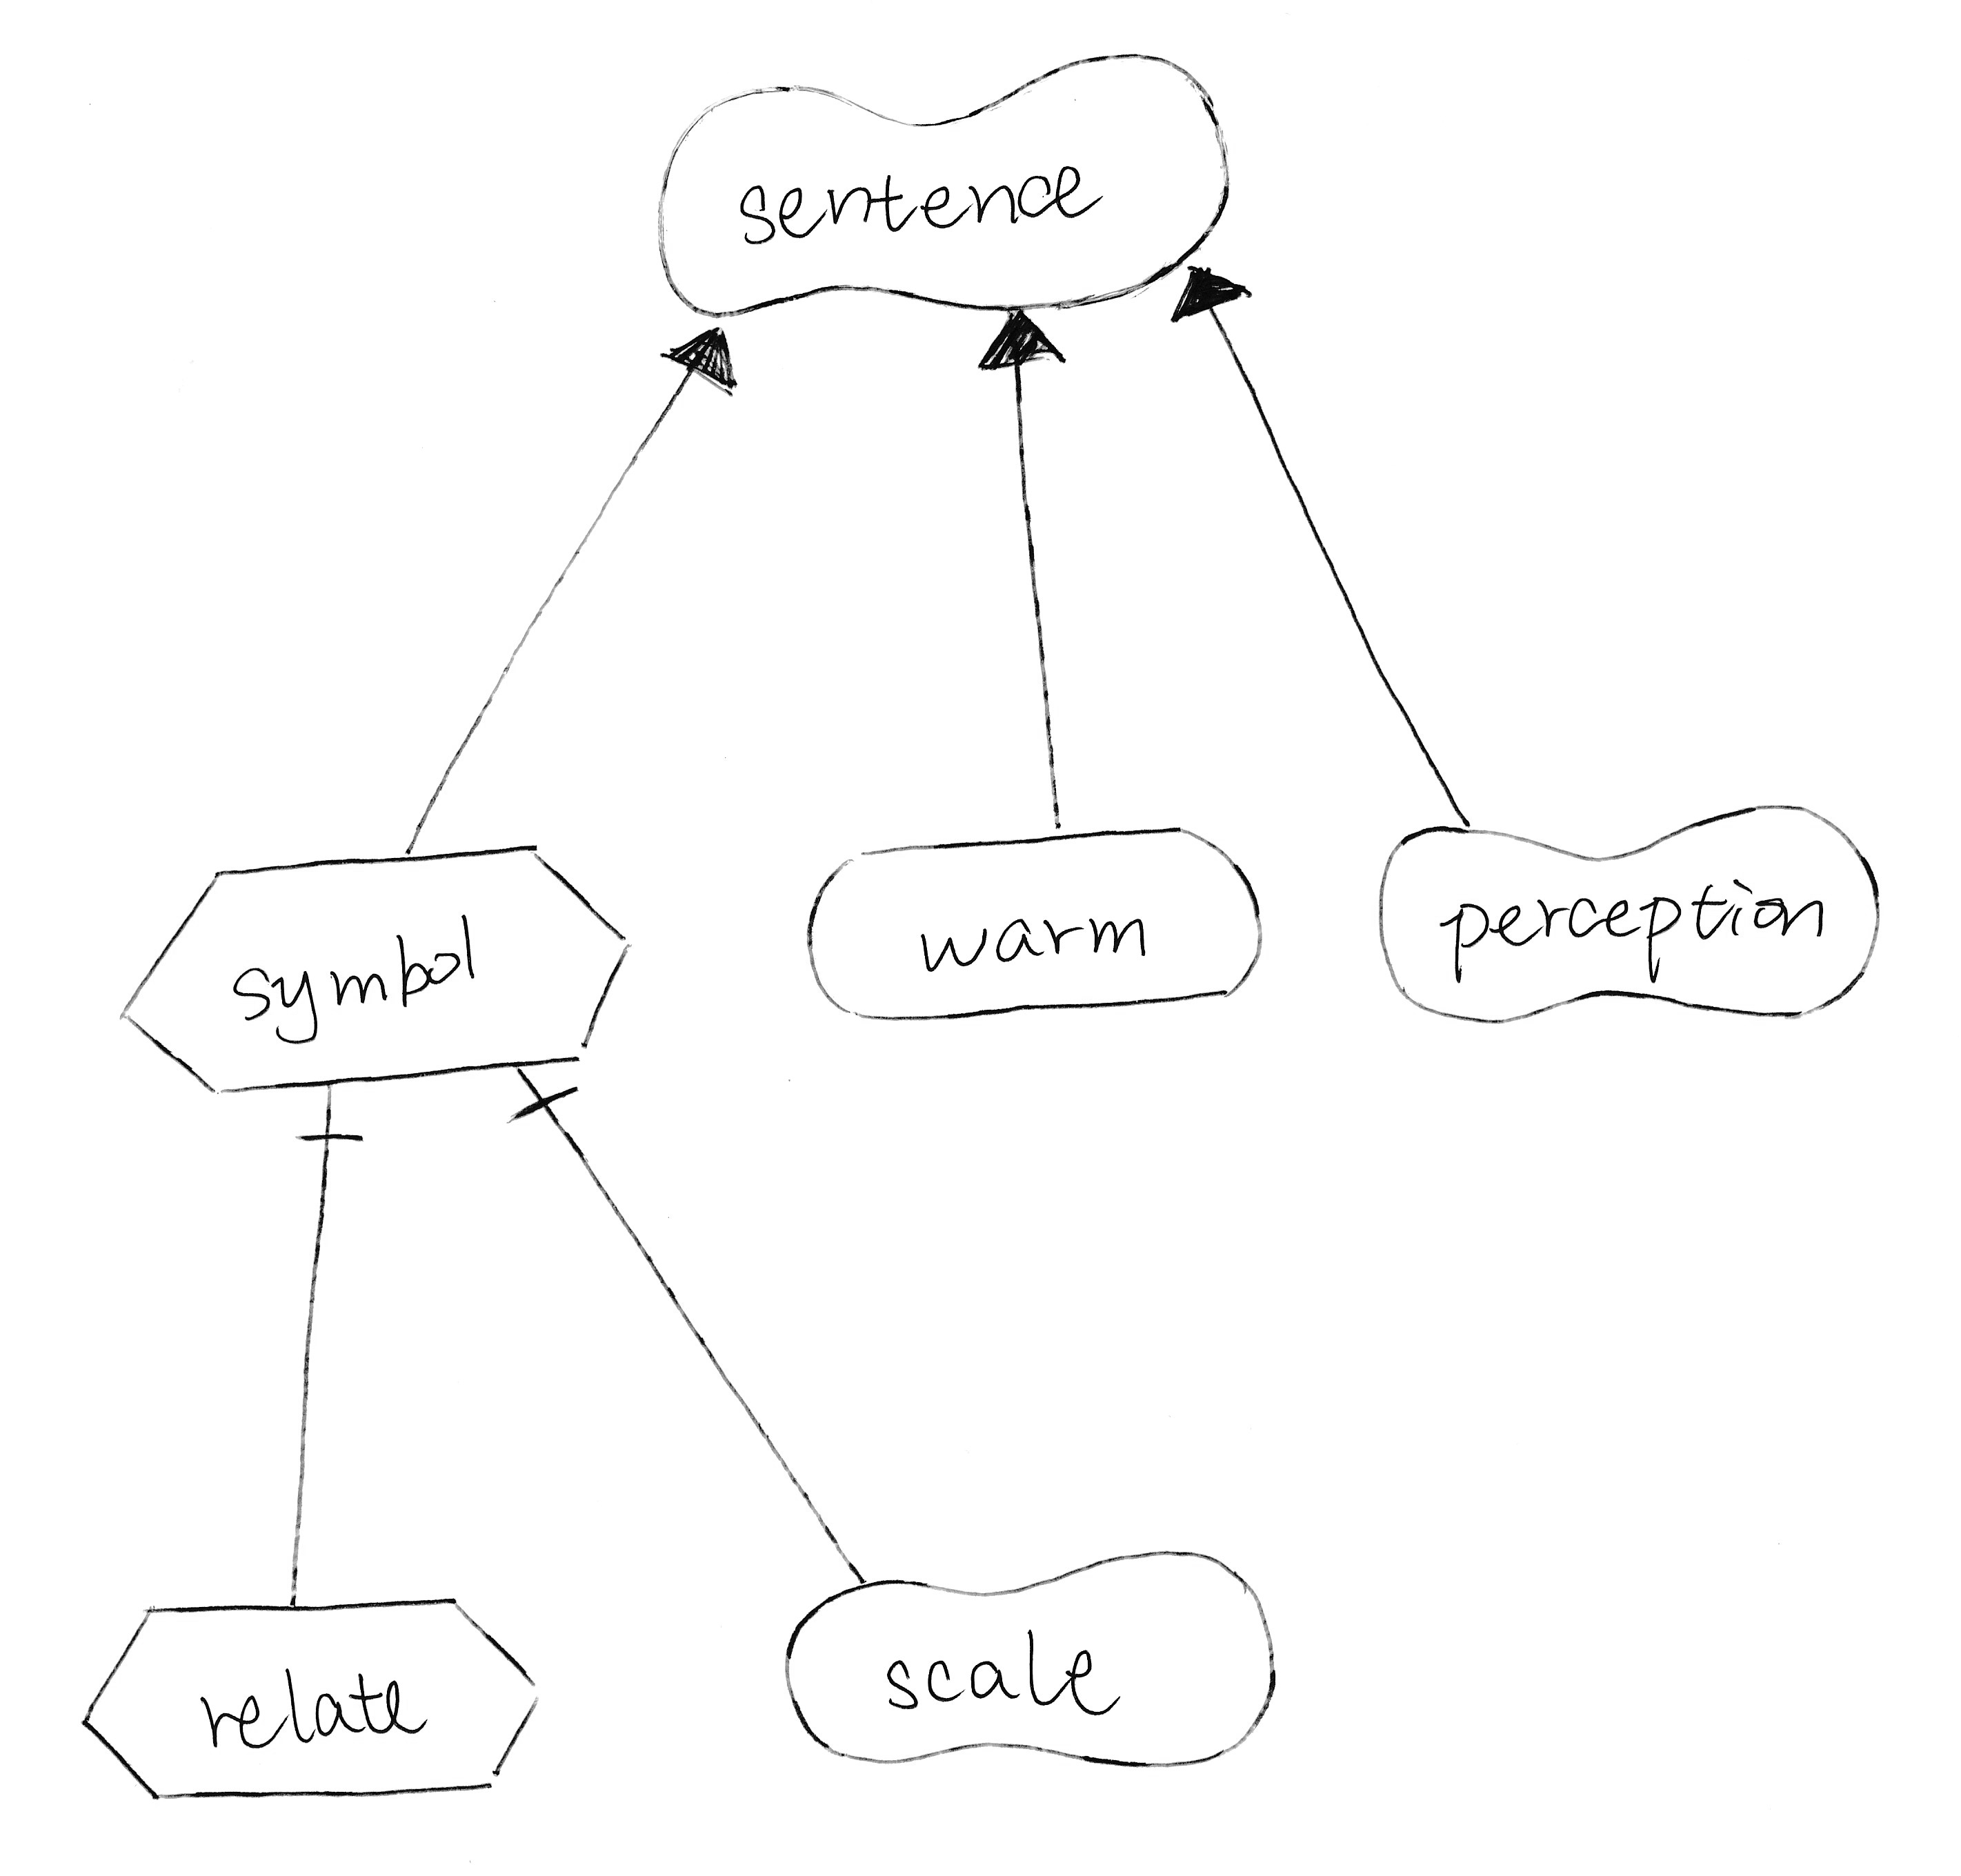and: (278, 1085, 373, 1176), (497, 1066, 601, 1144)
goal: (786, 808, 1285, 1040)
or: (648, 313, 748, 417), (963, 304, 1084, 385), (1157, 256, 1268, 341)
quality: (639, 26, 1250, 340), (1350, 782, 1896, 1036), (765, 1528, 1294, 1783)
task: (102, 824, 643, 1111), (65, 1575, 562, 1816)
